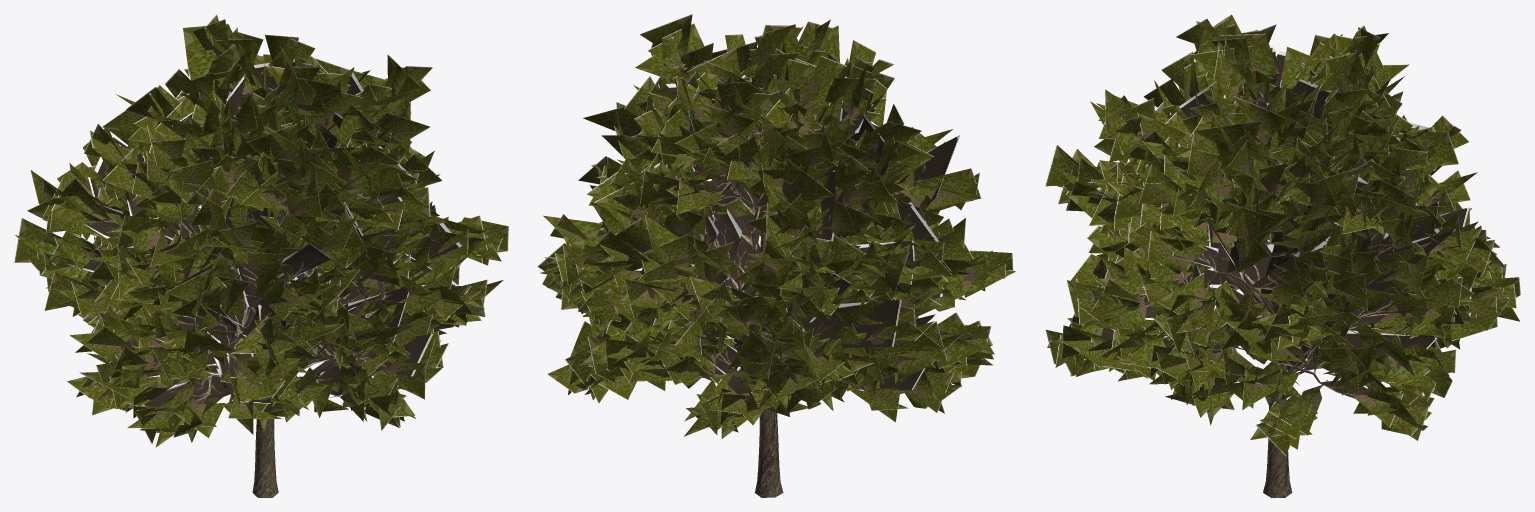
The model's file is tree4.obj.
3 views of the same model, side by side, from view 1: azimuth 30°, elevation 25°; view 2: azimuth 150°, elevation 25°; view 3: azimuth 270°, elevation 25° (orthographic). The views are drawn at different scales.
Visible parts, largest first — view 1: Leaf_6, Bark_9; view 2: Leaf_6, Bark_9; view 3: Leaf_6, Bark_9.
Boxes of the visible parts, x1,y1,x2,y2 form: Leaf_6: (14,14,508,447); Bark_9: (210,209,396,497); Leaf_6: (537,14,1016,438); Bark_9: (725,126,803,497); Leaf_6: (1045,14,1520,455); Bark_9: (1208,240,1398,497).
Size of the model in its own units: 70.05 by 75.35 by 70.11.
3 materials, 3 textured.
